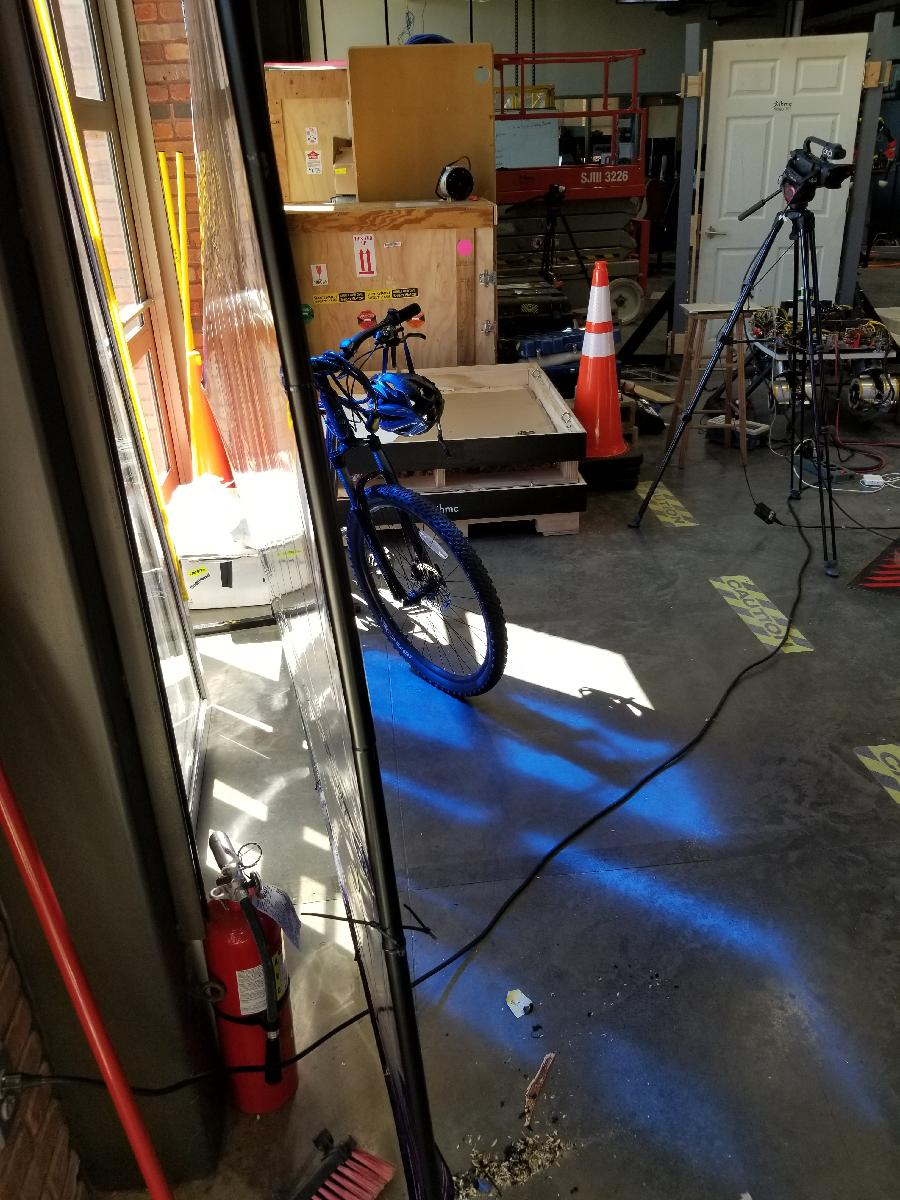door: (689, 29, 871, 381)
doorHandle: (703, 222, 729, 246)
